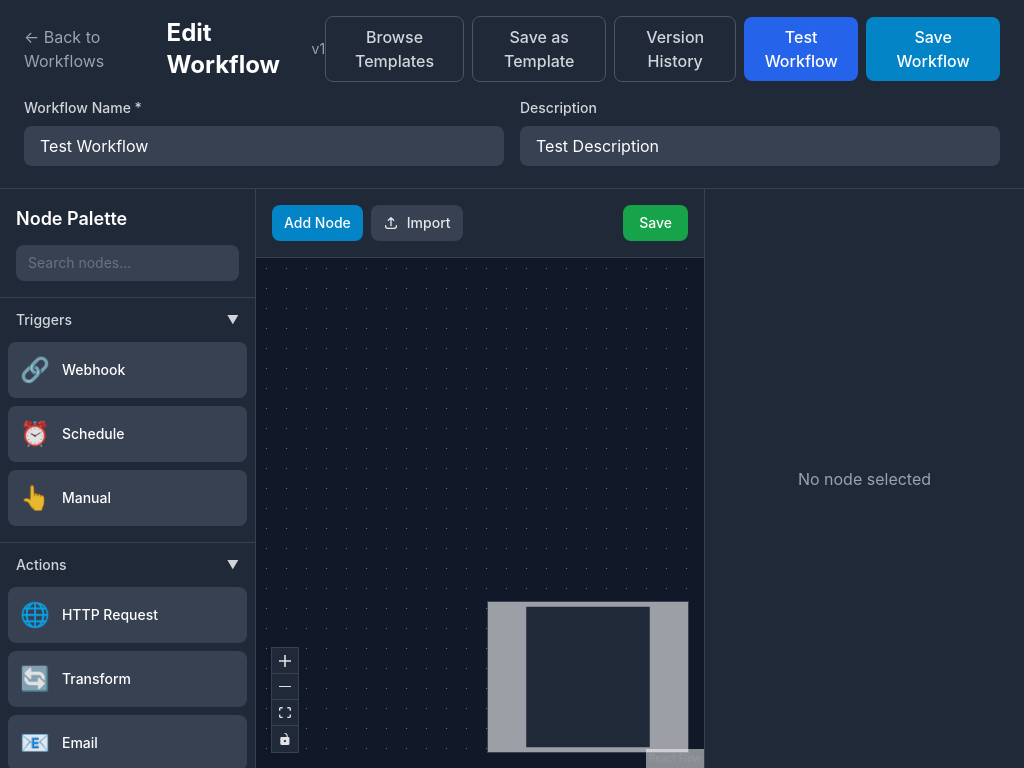
Test case: WorkflowEditor › Dry Run / Test Workflow › should show warnings in dry run results
Step 1. Click the button "Test Workflow" → (801, 49), box 744,17 -> 858,81
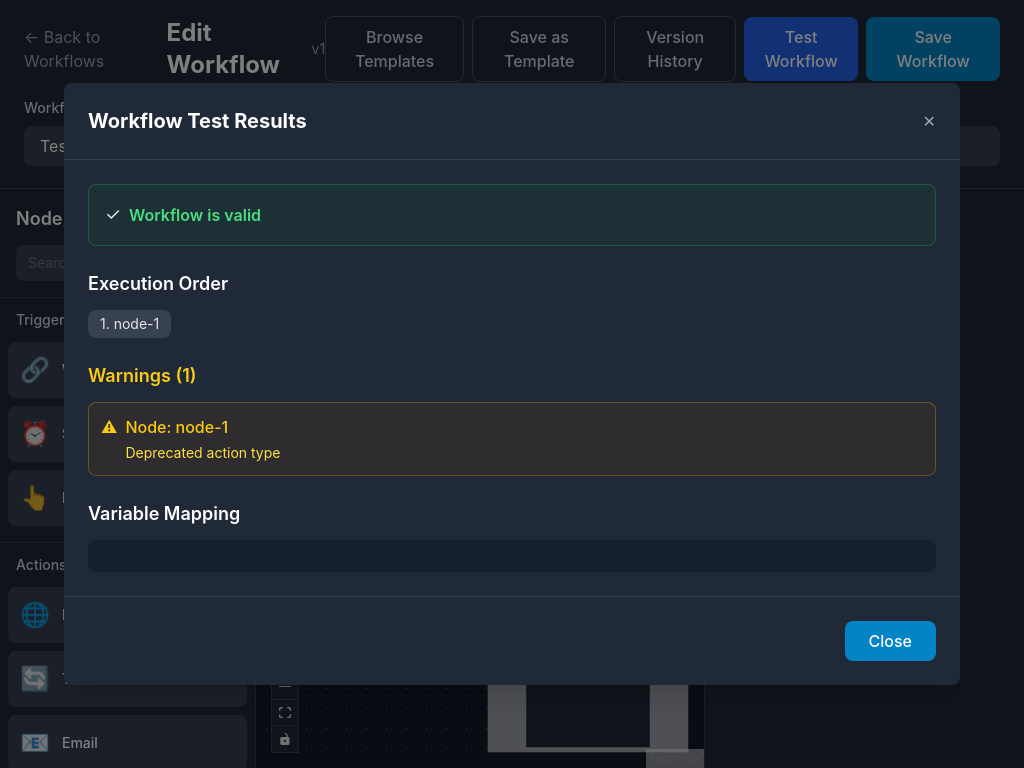
Now the text "Deprecated action type" is shown, box 125,444 -> 280,461
